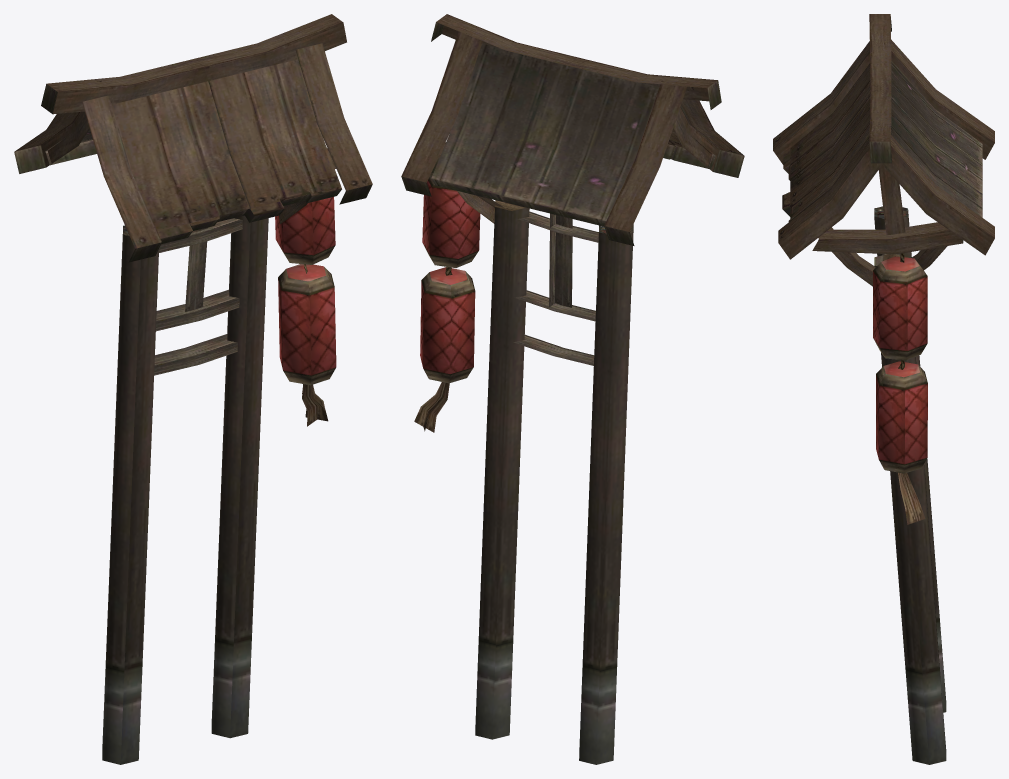
File: SC001Jjianzhu_43.FBX
The picture shows the model from 3 angles, left to right: view 1: azimuth 30°, elevation 25°; view 2: azimuth 150°, elevation 25°; view 3: azimuth 270°, elevation 25°; orthographic projection. The views are drawn at different scales.
Parts seen in each view (by area): view 1: Box002, Cylinder004; view 2: Box002, Cylinder004; view 3: Box002, Cylinder004.
Part boxes in pixels (x1,y1,x2,y2): Box002: (14, 14, 372, 764); Cylinder004: (275, 197, 336, 426); Box002: (401, 14, 744, 764); Cylinder004: (414, 173, 480, 432); Box002: (773, 14, 994, 764); Cylinder004: (873, 253, 927, 524).
Bounding box in the file's own units: 10.53 × 23.92 × 7.38.
